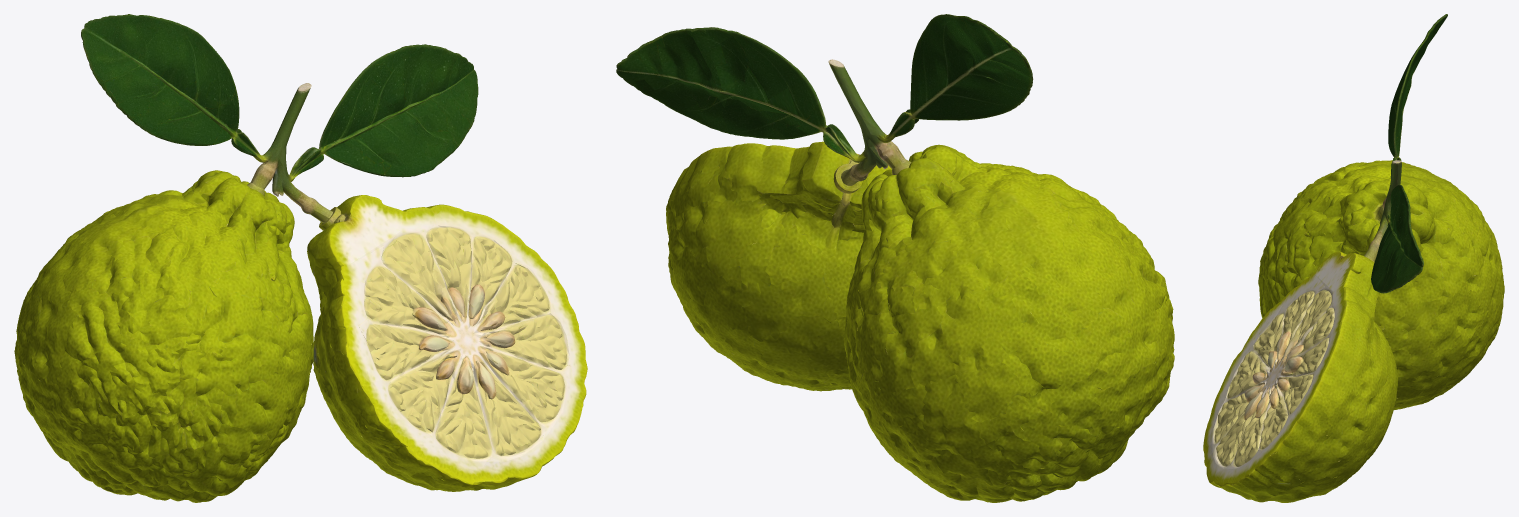
The model's file is bergamot.glb.
The picture shows the model from 3 angles, left to right: view 1: azimuth 30°, elevation 25°; view 2: azimuth 150°, elevation 25°; view 3: azimuth 270°, elevation 25°; orthographic projection. The views are drawn at different scales.
Parts seen in each view (by area): view 1: Mesh_0; view 2: Mesh_0; view 3: Mesh_0.
Part boxes in pixels (bbox=[...]): Mesh_0: bbox=[14, 14, 587, 502]; Mesh_0: bbox=[616, 14, 1174, 502]; Mesh_0: bbox=[1203, 14, 1504, 502].
Size of the model in its own units: 1.9 by 1.7 by 1.24.
1 material, 1 textured.
